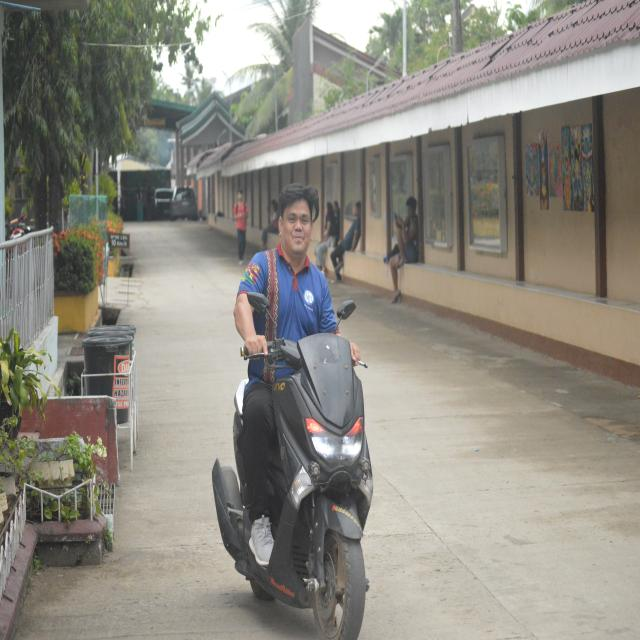person: (237, 359, 292, 566), (389, 197, 418, 303), (331, 202, 361, 281), (316, 202, 339, 275), (233, 190, 248, 264), (262, 200, 279, 250)
